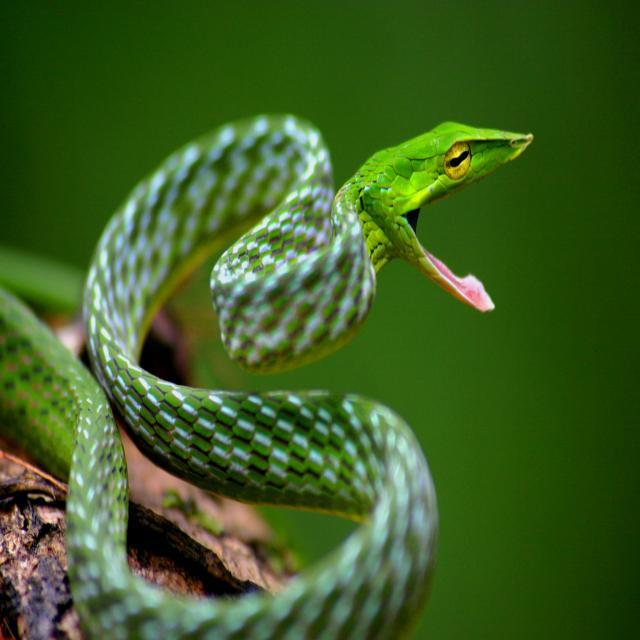Snake: (0, 39, 549, 640)
